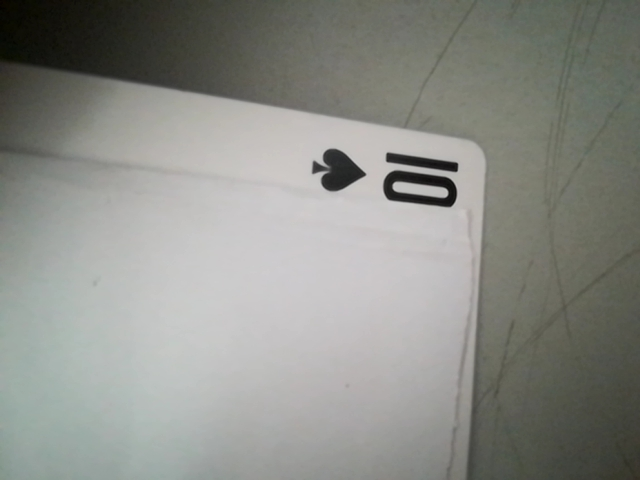ht 10: (299, 138, 483, 219)
